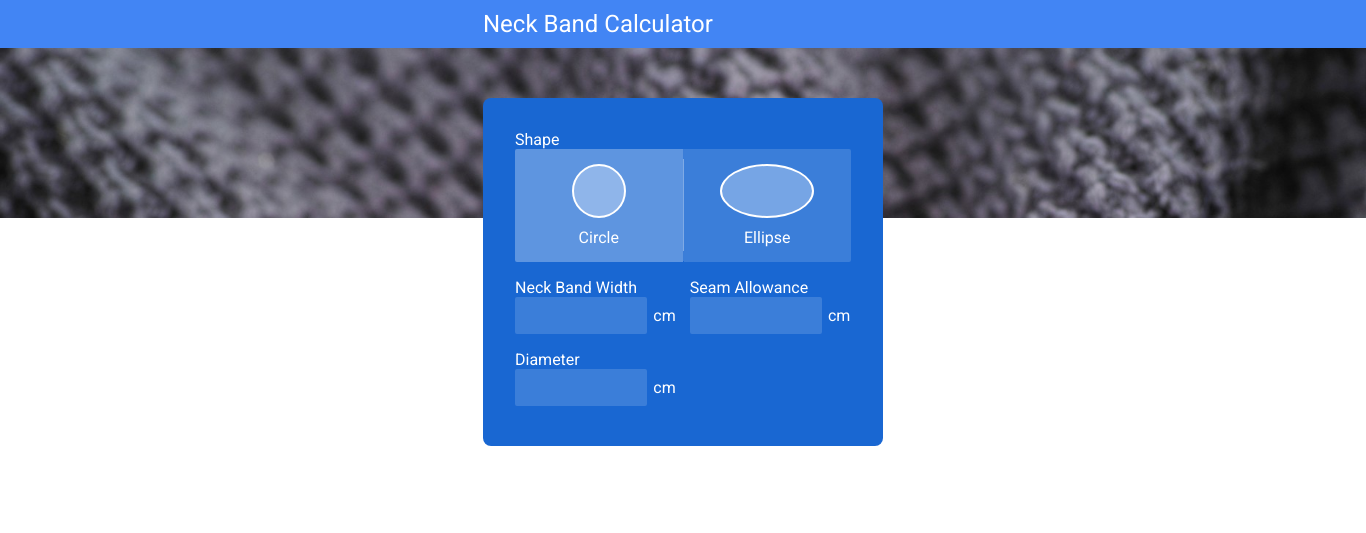
App › calculates elliptical neckband length
Click the text with test id "shape-ellipse" at (768, 206), box [684,149,852,262]
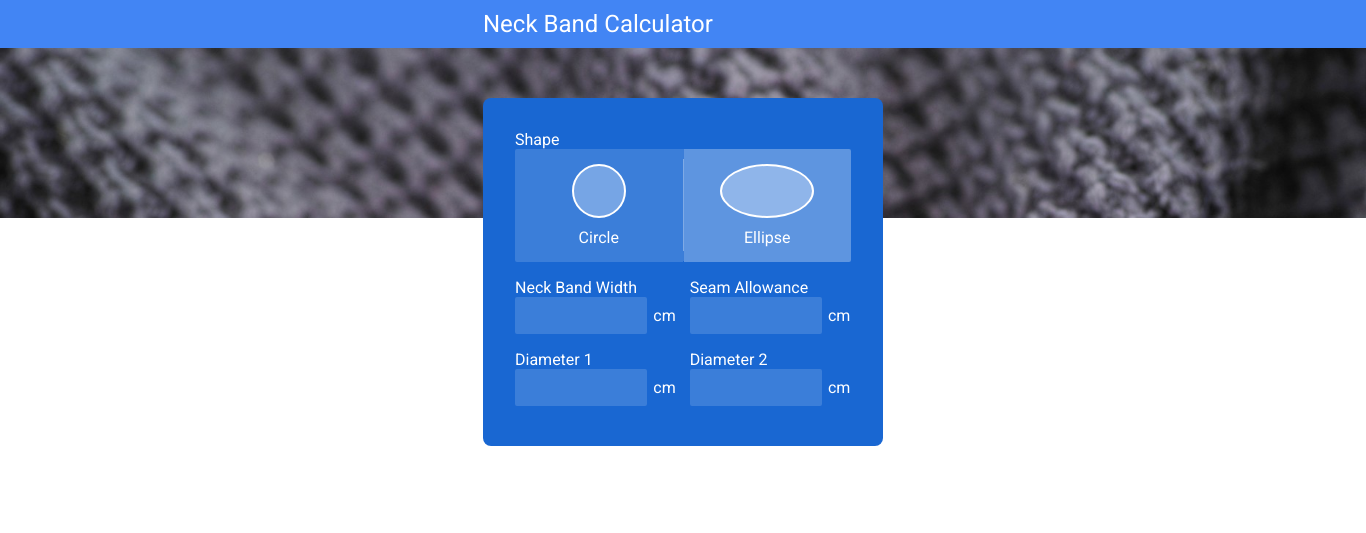
Type "5" into the number field with test id "neck-band-width" at (581, 316), box [515,297,647,334]
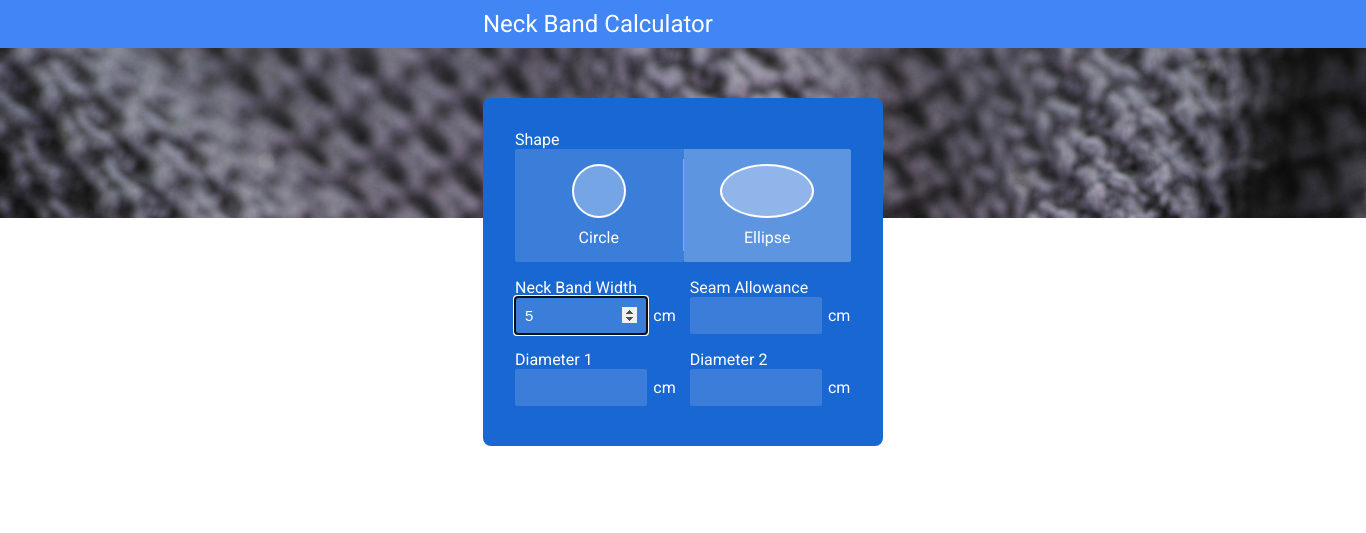
Type "1" into the number field with test id "seam-allowance" at (756, 316), box [690,297,822,334]
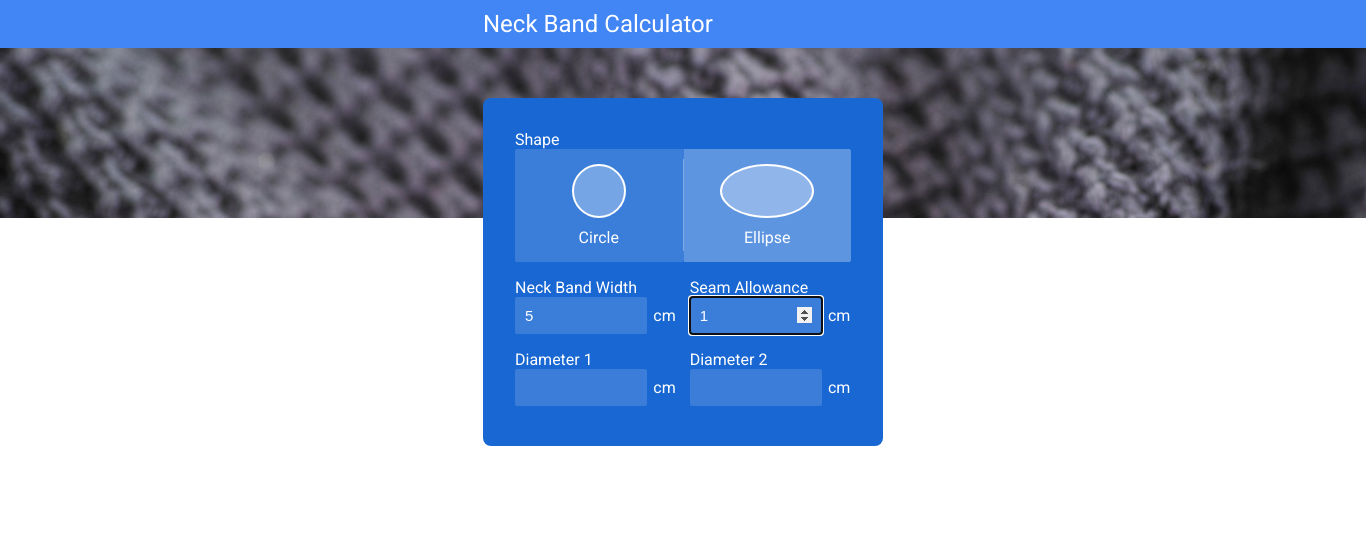
Type "18" into the number field with test id "ellipse-diameter-one" at (581, 388), box [515,369,647,406]
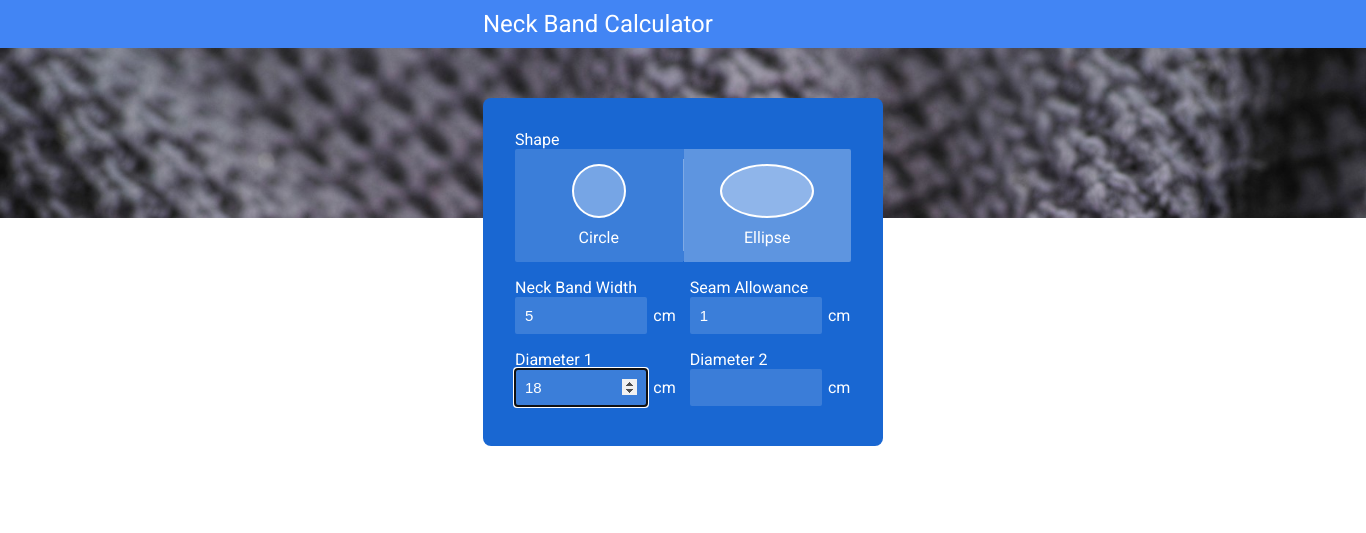
Type "14" into the number field with test id "ellipse-diameter-two" at (756, 388), box [690,369,822,406]
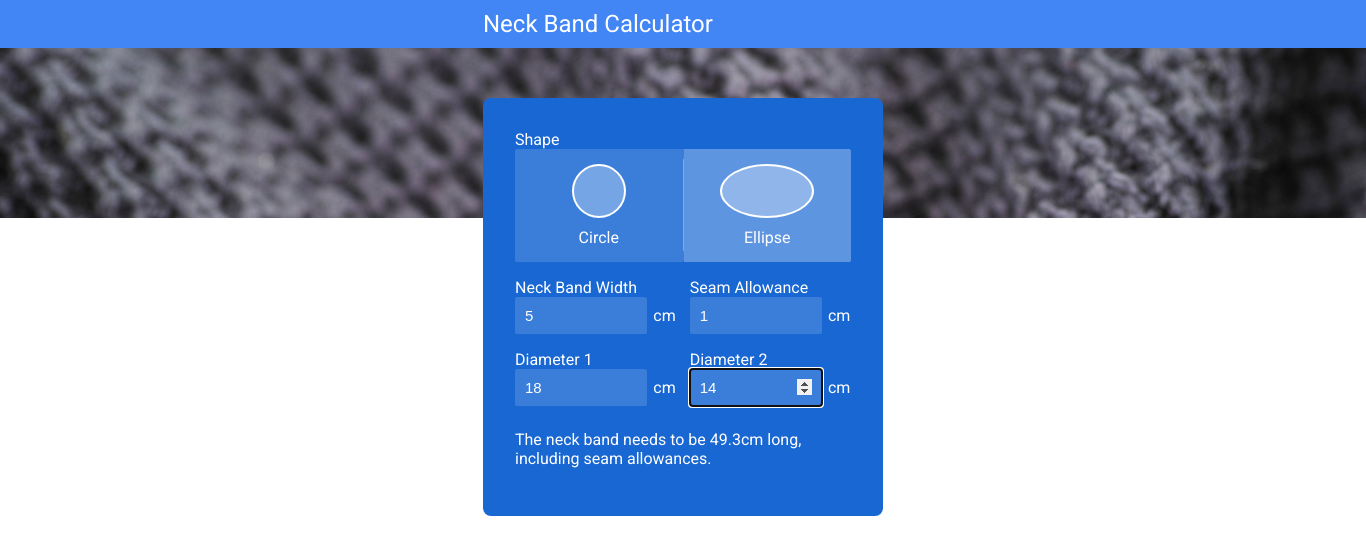
Now the text with test id "result" reads "The neck band needs to be 49.3cm long, including seam allowances.", box [515,430,851,468]
